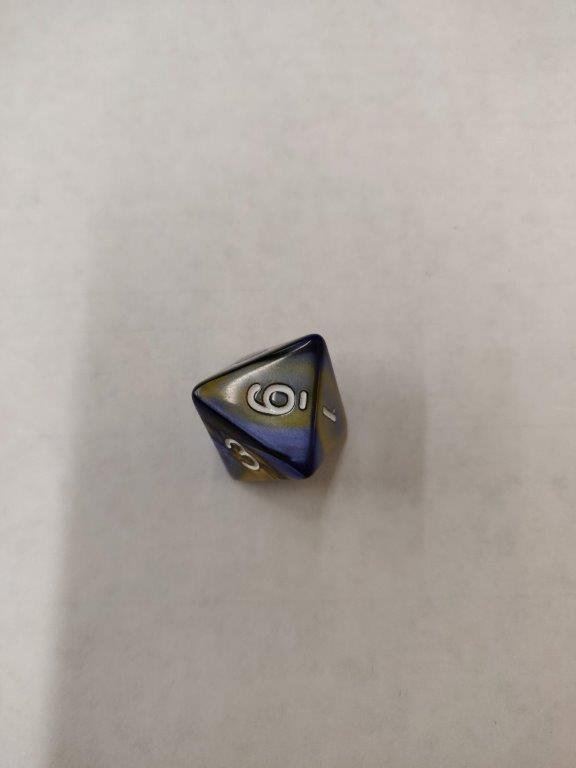d8-6: (189, 330, 350, 492)
